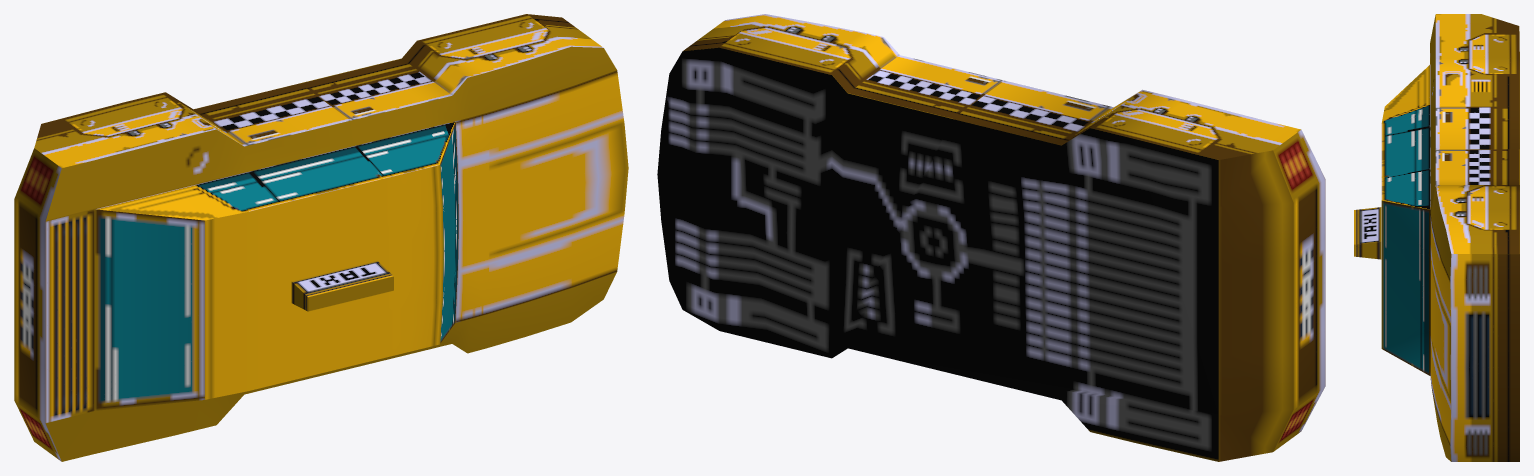
The model's file is taxi.obj.
3 views of the same model, side by side, from view 1: azimuth 30°, elevation 25°; view 2: azimuth 150°, elevation 25°; view 3: azimuth 270°, elevation 25° (orthographic). The views are drawn at different scales.
Visible parts, largest first — view 1: taxi; view 2: taxi; view 3: taxi.
Boxes of the visible parts, box(x1,y1,x2,y2) form: taxi: box(14, 14, 628, 461); taxi: box(657, 14, 1325, 461); taxi: box(1354, 14, 1519, 461).
Bounding box in the file's own units: 61.29 × 29.09 × 17.87.
